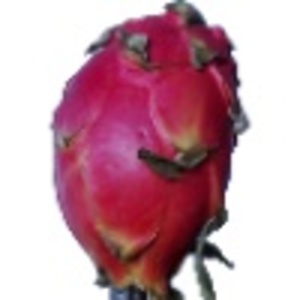pitaia: (49, 1, 251, 300)
